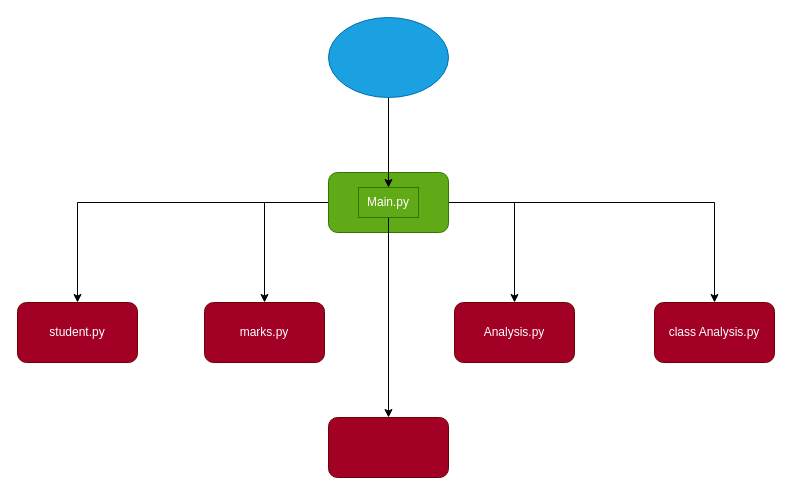
Some shapes in this 792 by 495 pixel diagram are drawn without their labels. The centre of each missing label's shape, as x and y in pixels:
report.py: (388,447)
STUDENT PERFORMANCE ANALYZER: (388,57)
